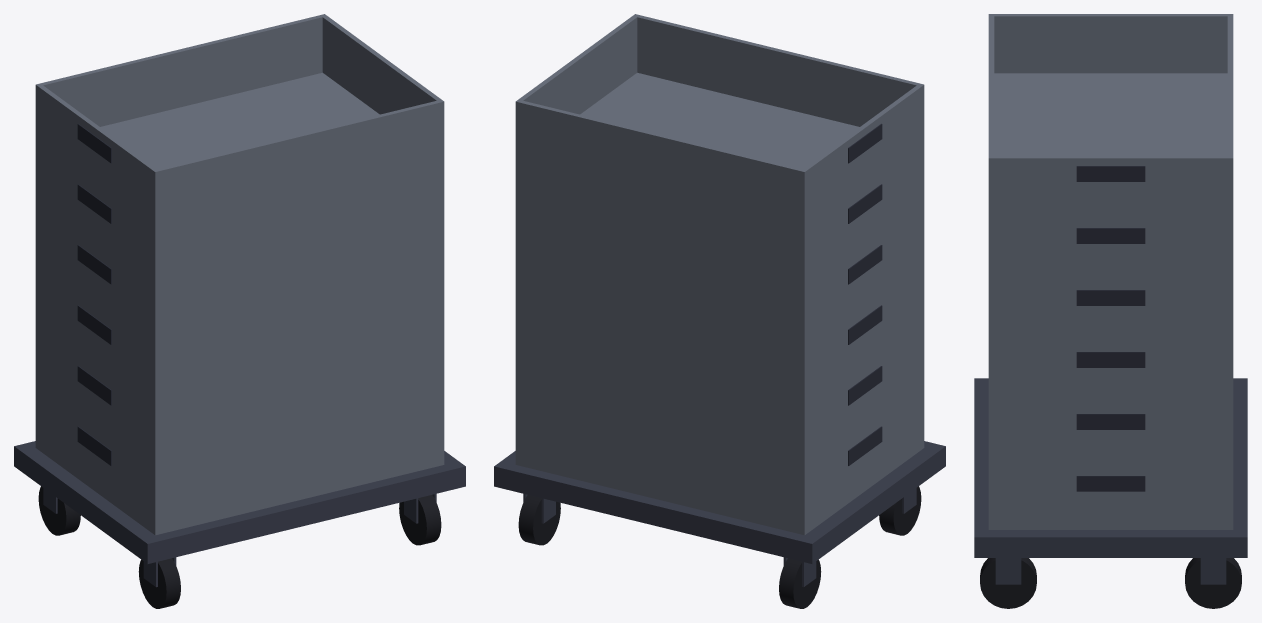
The model's file is air-031.glb.
3 views of the same model, side by side, from view 1: azimuth 30°, elevation 25°; view 2: azimuth 150°, elevation 25°; view 3: azimuth 270°, elevation 25° (orthographic). The views are drawn at different scales.
Visible parts, largest first — view 1: side_long_2 (×6), side_short_1 (×6), base (×6), side_long_1, dolly_deck, side_short_2, wheel (×3); view 2: side_long_1 (×6), side_short_1 (×6), base (×6), side_long_2, dolly_deck, side_short_2, wheel (×3); view 3: side_short_2 (×6), base (×6), side_short_1, dolly_deck, hand_slot_2 (×6), wheel (×2), side_long_1 (×6), side_long_2 (×6), fork_2 (×2).
Boxes of the visible parts, bbox=[...] form: side_long_2 (×6): bbox=[152, 99, 444, 530]; side_short_1 (×6): bbox=[38, 85, 156, 527]; base (×6): bbox=[35, 72, 444, 535]; side_long_1: bbox=[35, 14, 326, 141]; dolly_deck: bbox=[14, 441, 465, 563]; side_short_2: bbox=[322, 16, 441, 114]; wheel (×3): bbox=[38, 486, 441, 608]; side_long_1 (×6): bbox=[515, 99, 807, 530]; side_short_1 (×6): bbox=[803, 85, 921, 527]; base (×6): bbox=[515, 72, 924, 535]; side_long_2: bbox=[633, 14, 924, 141]; dolly_deck: bbox=[494, 441, 945, 563]; side_short_2: bbox=[518, 16, 637, 114]; wheel (×3): bbox=[518, 486, 921, 608]; side_short_2 (×6): bbox=[994, 156, 1227, 524]; base (×6): bbox=[988, 73, 1233, 529]; side_short_1: bbox=[994, 14, 1227, 73]; dolly_deck: bbox=[974, 378, 1247, 557]; hand_slot_2 (×6): bbox=[1076, 166, 1145, 491]; wheel (×2): bbox=[980, 558, 1241, 608]; side_long_1 (×6): bbox=[1227, 14, 1233, 524]; side_long_2 (×6): bbox=[988, 14, 994, 524]; fork_2 (×2): bbox=[995, 558, 1226, 584].
Bounding box in the file's own units: 0.66 × 0.88 × 0.48.
